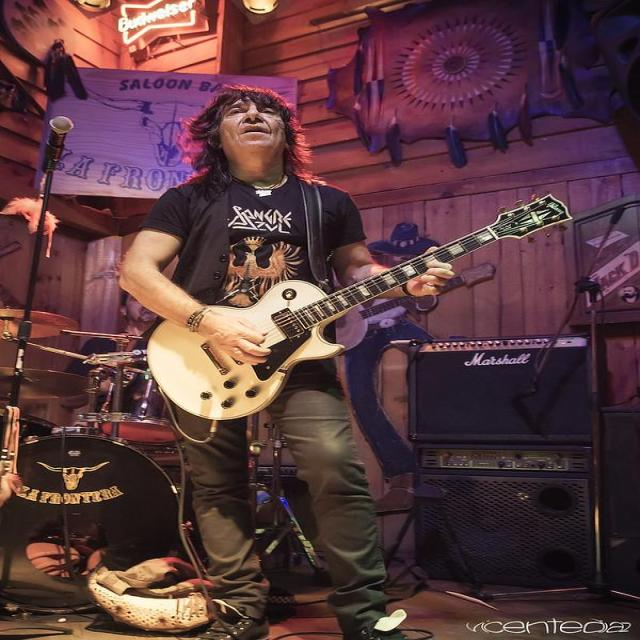guitar: (148, 195, 571, 419)
